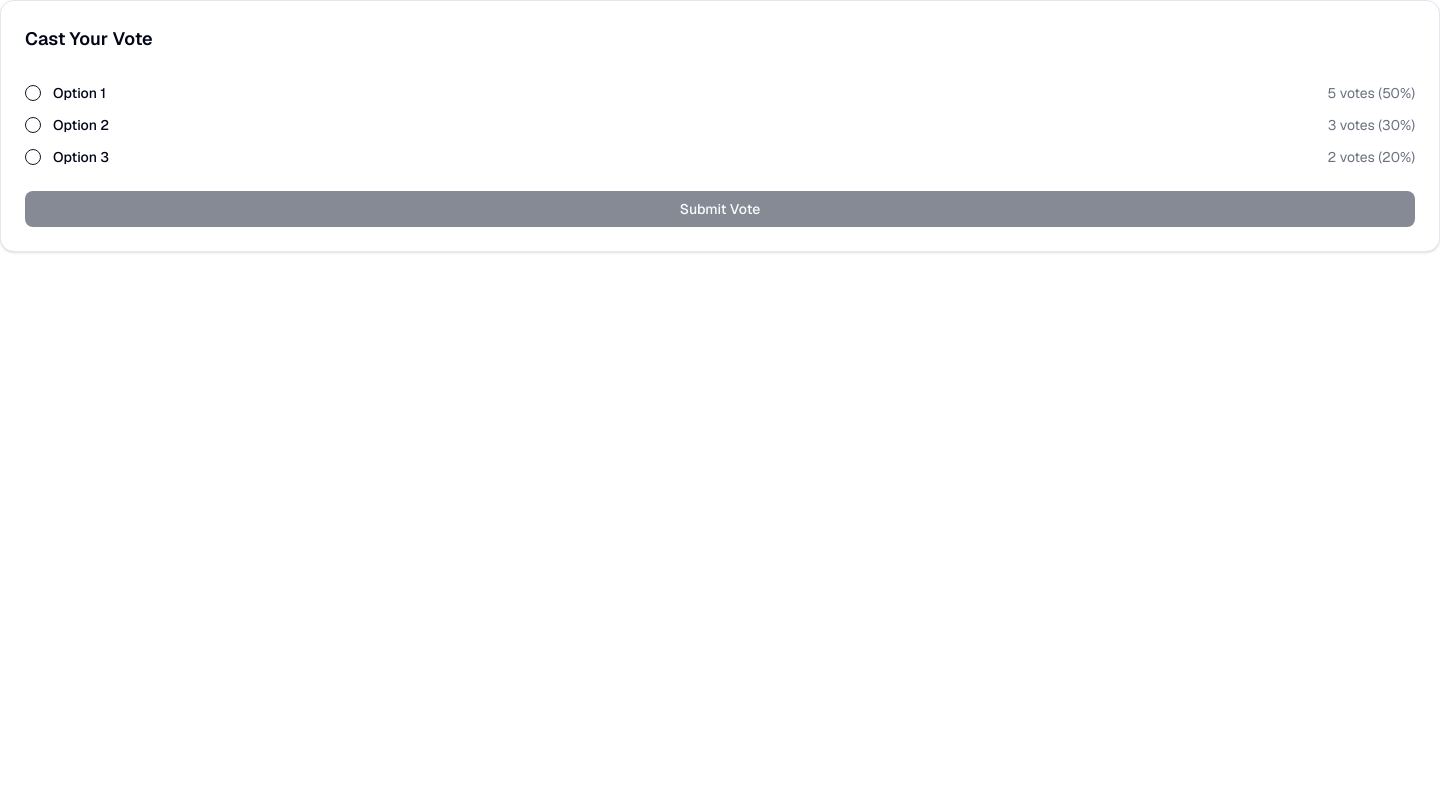
Test: VotingForm › shows results after voting
Select an option and submit
Click the radio button named "Option 1" next to "Option 1".
click(33, 93)  # box [25,85,41,101]
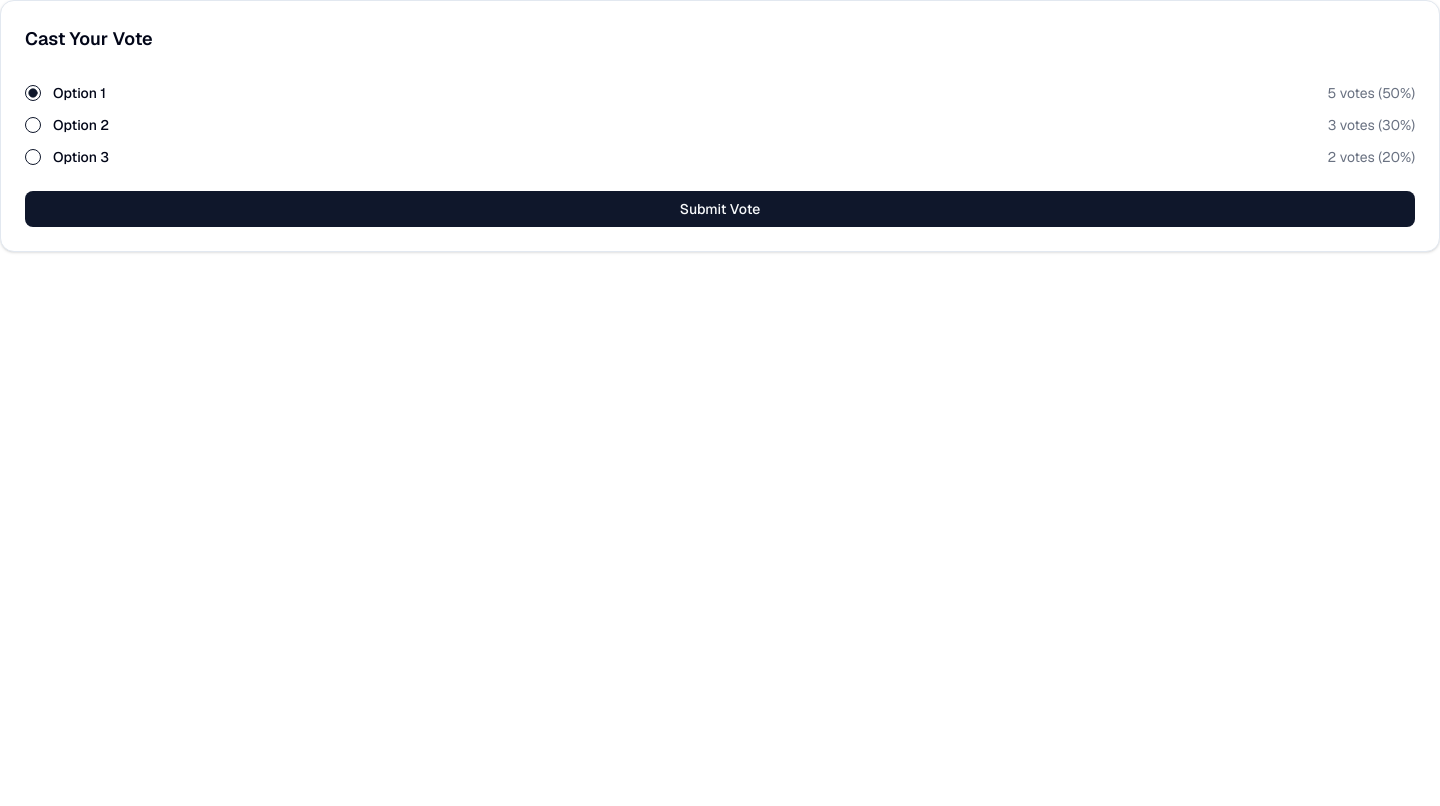
Click the button "Submit Vote".
click(720, 209)  # box [25,191,1415,227]
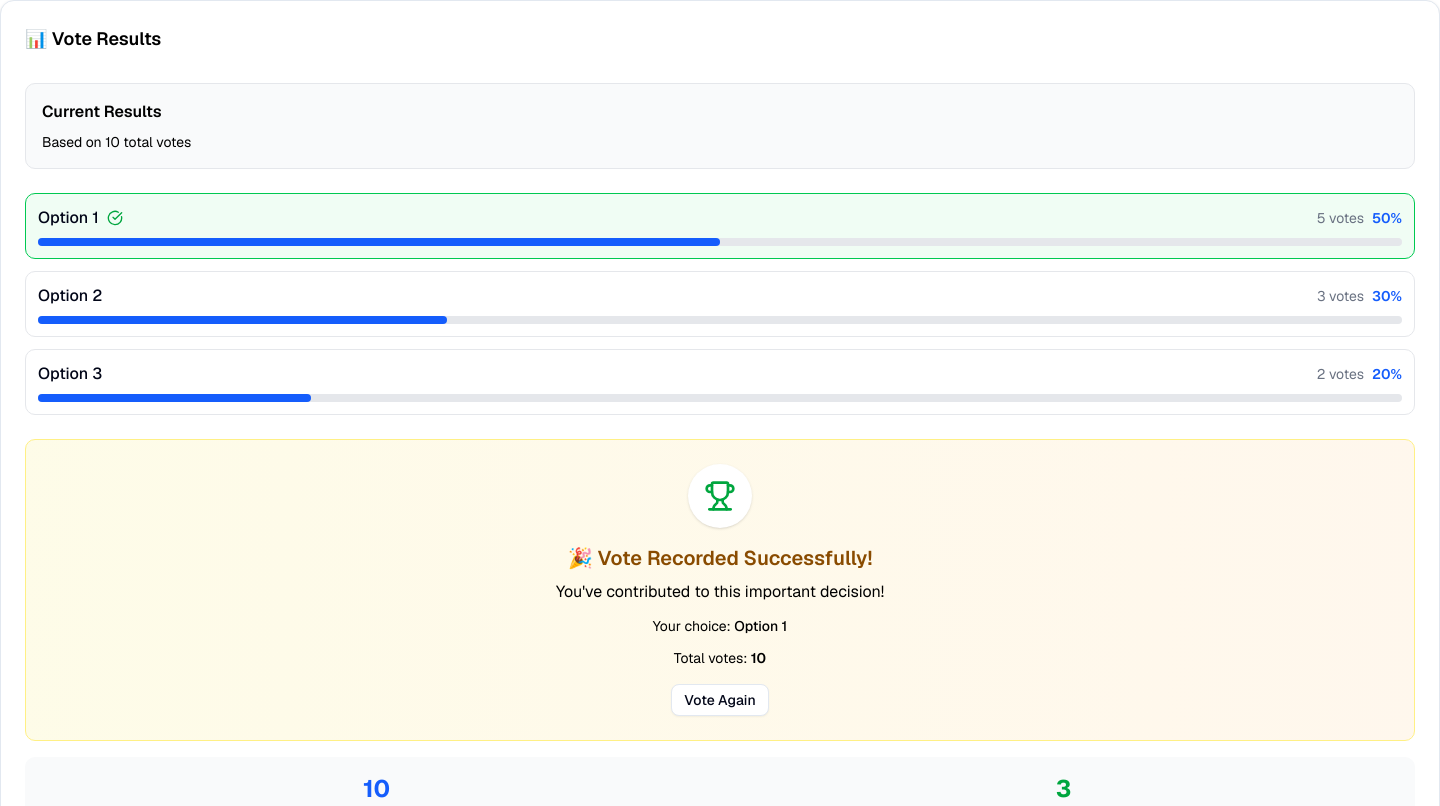
Now the text "📊 Vote Results" is shown, box [25,27,161,50]
Now the heading "Current Results" is shown, box [42,101,162,122]
Now the text "Based on 10 total votes" is shown, box [42,133,191,151]
